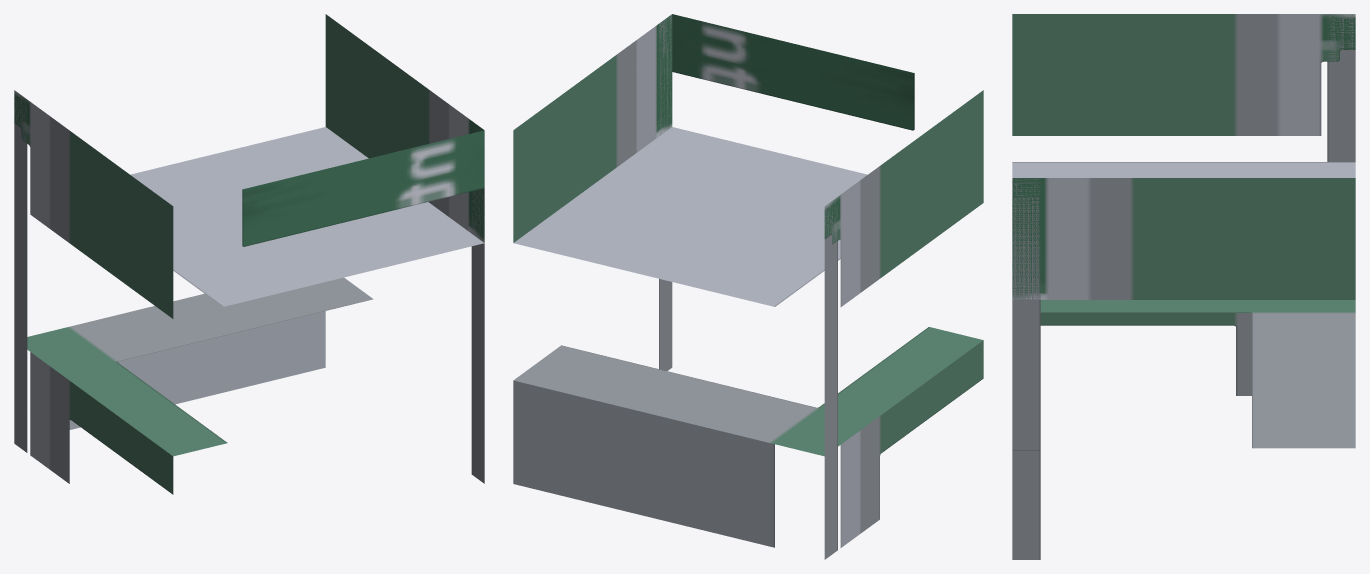
The model's file is section-1.obj.
3 views of the same model, side by side, from view 1: azimuth 30°, elevation 25°; view 2: azimuth 150°, elevation 25°; view 3: azimuth 270°, elevation 25° (orthographic). The views are drawn at different scales.
Size of the model in its own units: 0.9215 by 1 by 0.8142.
